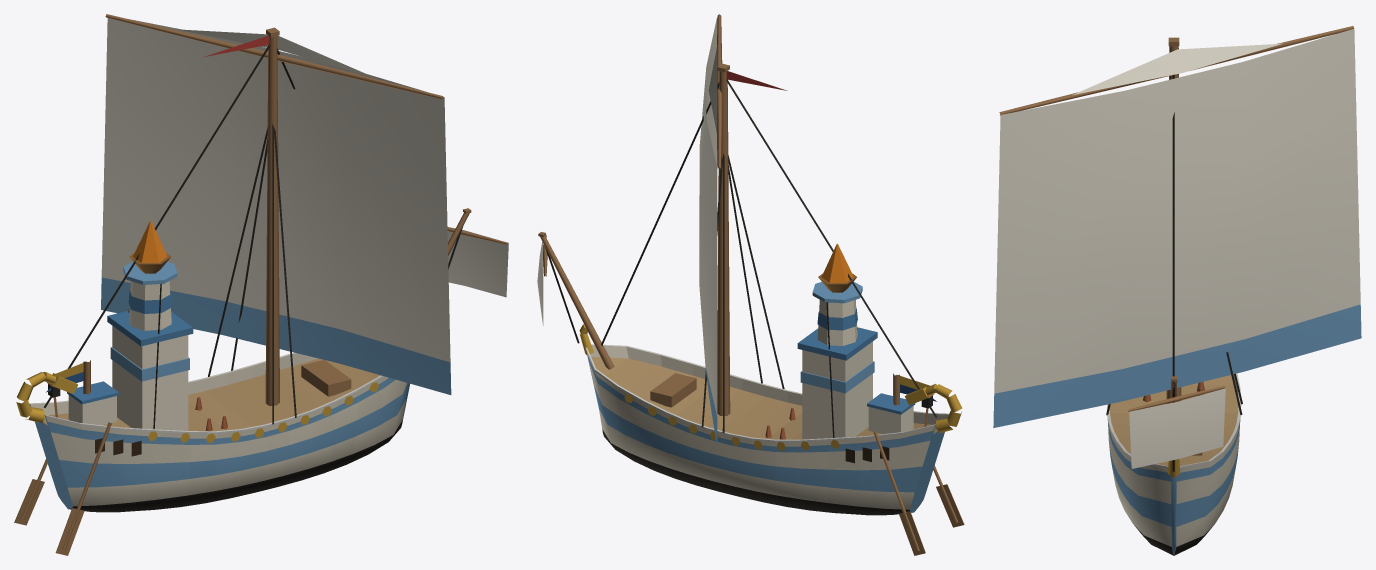
The model's file is titan_usds.glb.
The picture shows the model from 3 angles, left to right: view 1: azimuth 30°, elevation 25°; view 2: azimuth 150°, elevation 25°; view 3: azimuth 270°, elevation 25°; orthographic projection. The views are drawn at different scales.
Parts seen in each view (by area): view 1: sail_main, hull, deck, mast, rigging, yards, sail_extra, flag; view 2: hull, deck, sail_main, mast, rigging, yards, flag; view 3: sail_main, hull, sail_extra, yards, rigging.
Boxes of the visible parts, bbox=[...] form: sail_main: bbox=[101, 18, 508, 394]; hull: bbox=[16, 352, 409, 512]; deck: bbox=[14, 221, 351, 555]; mast: bbox=[83, 27, 471, 405]; rigging: bbox=[44, 44, 462, 429]; yards: bbox=[105, 14, 507, 244]; sail_extra: bbox=[176, 29, 374, 77]; flag: bbox=[46, 35, 269, 392]; hull: bbox=[579, 324, 962, 515]; deck: bbox=[650, 243, 964, 555]; sail_main: bbox=[537, 17, 717, 446]; mast: bbox=[538, 63, 899, 416]; rigging: bbox=[545, 79, 936, 437]; yards: bbox=[543, 14, 722, 276]; flag: bbox=[726, 71, 936, 401]; sail_main: bbox=[993, 29, 1361, 468]; hull: bbox=[1107, 373, 1241, 555]; sail_extra: bbox=[1072, 43, 1282, 95]; yards: bbox=[999, 26, 1354, 411]; rigging: bbox=[1106, 74, 1242, 471].
Bounding box in the file's own units: 27.03 × 24.99 × 17.44.
